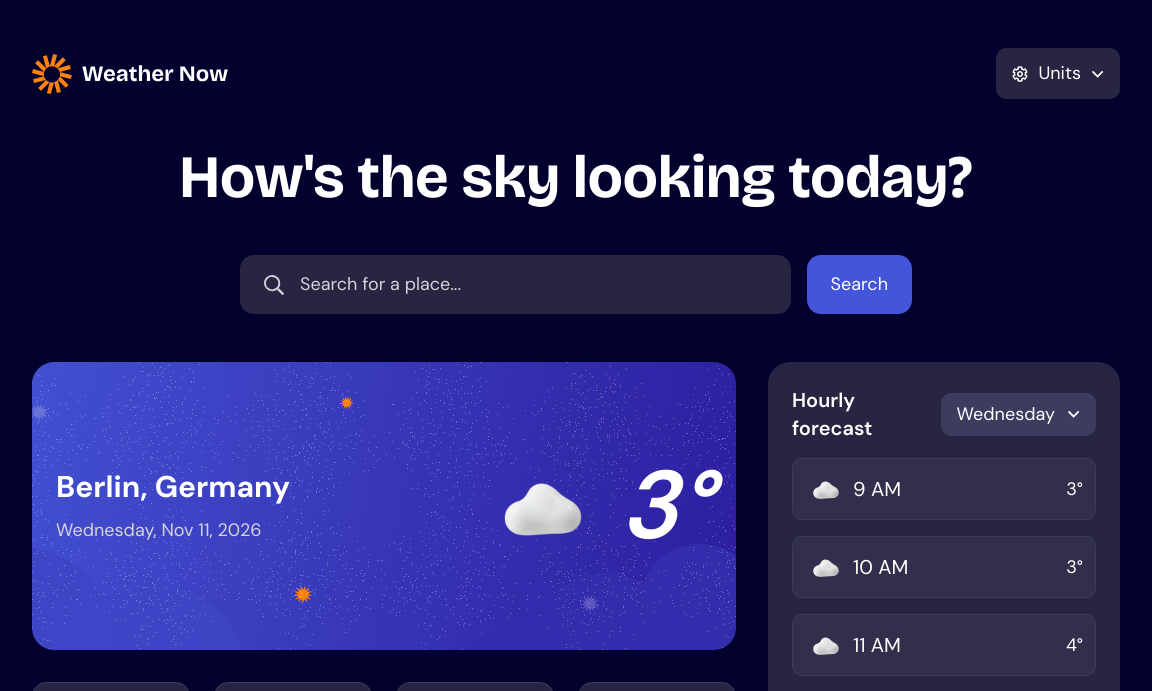
Scenario: 새 지역 선택 뒤 요일 선택기 › 다른 요일을 고른 뒤 새 지역을 선택하면 요일 선택기가 오늘(Wednesday)로 돌아간다
The width and height of the screenshot is (1152, 691).
Expected: the text "Berlin, Germany" is shown, [56,468,290,504]
Click the button "Wednesday" at (1018, 414), box [941,392,1096,436]
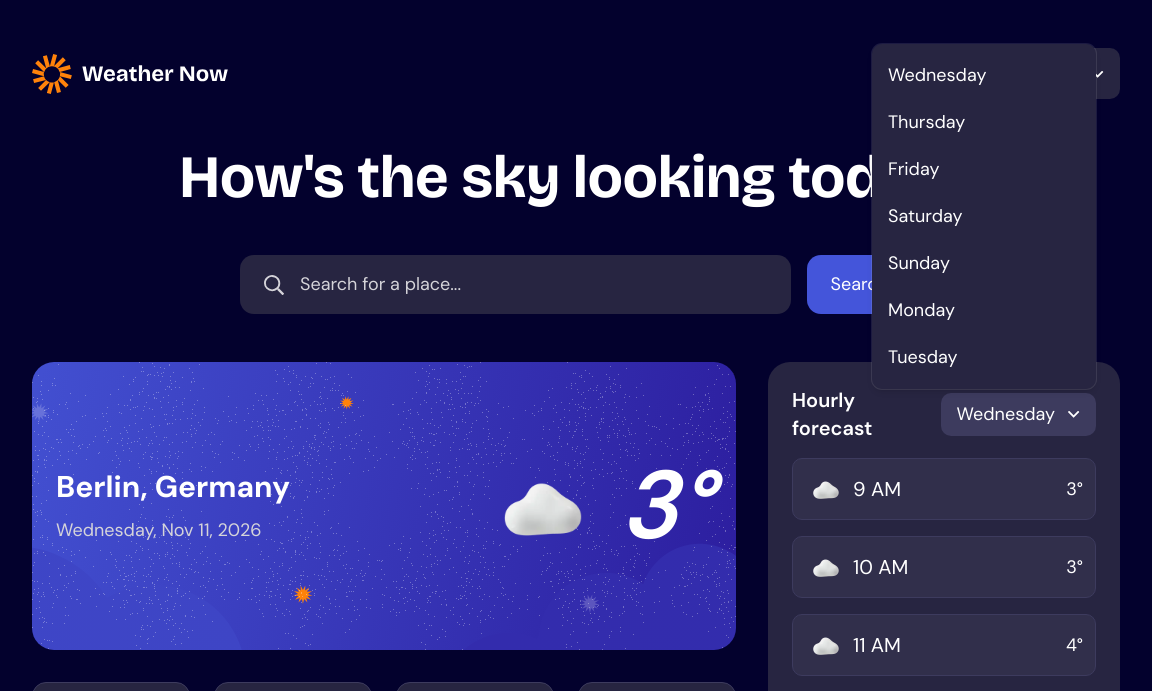
Expected: the menu item "Sunday" is shown
Click the menu item "Sunday" at (919, 263), box [888,251,950,275]
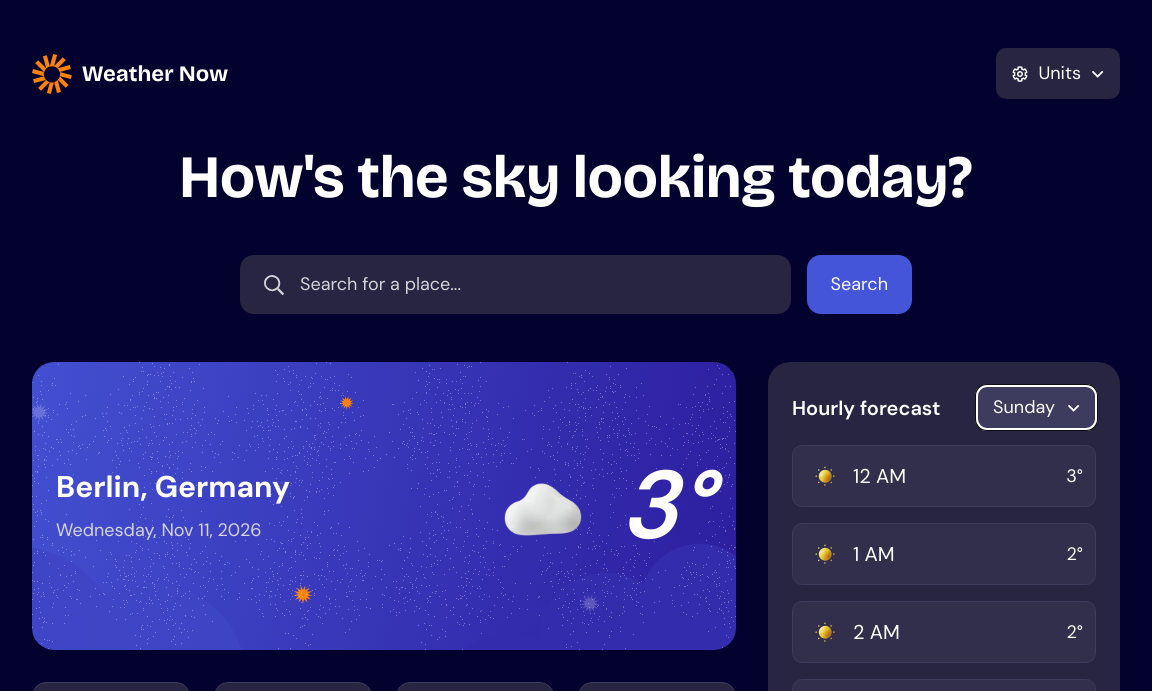
Expected: the button "Sunday" is shown, [977,386,1096,429]
Type "Berlin" into the dropdown at (515, 284), box [240,255,791,314]
Then press Enter
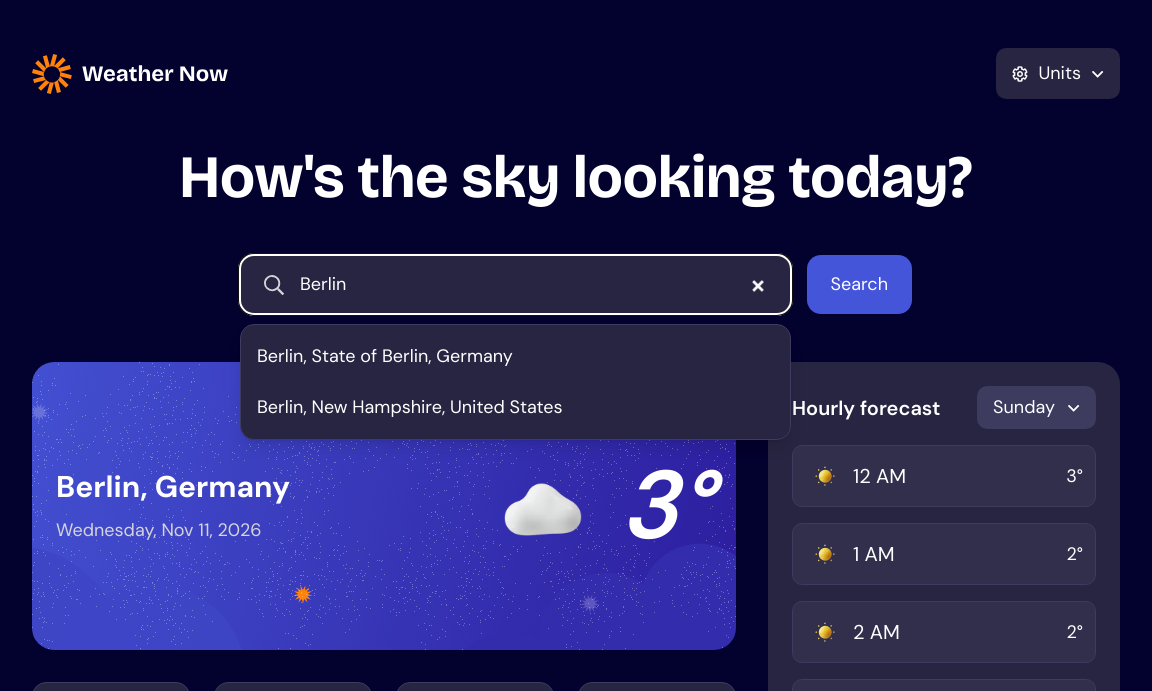
Click the option "Berlin, New Hampshire, United States" at (410, 407), box [257,395,563,419]
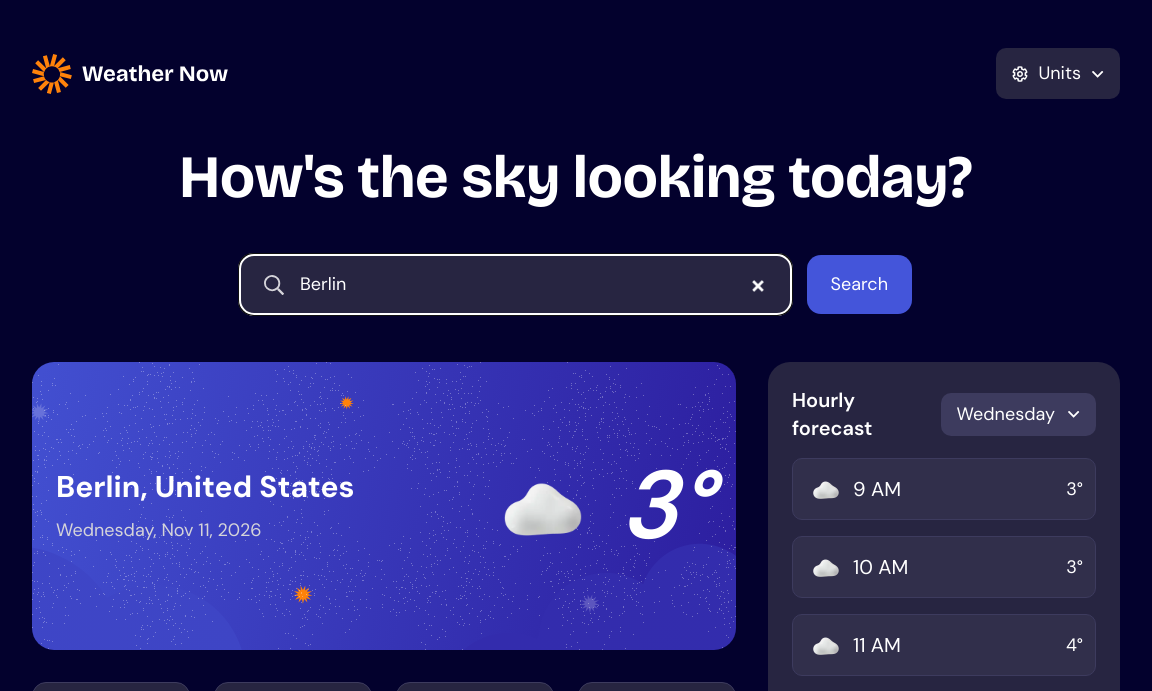
Expected: the text "Berlin, United States" is shown, [56,468,354,504]
